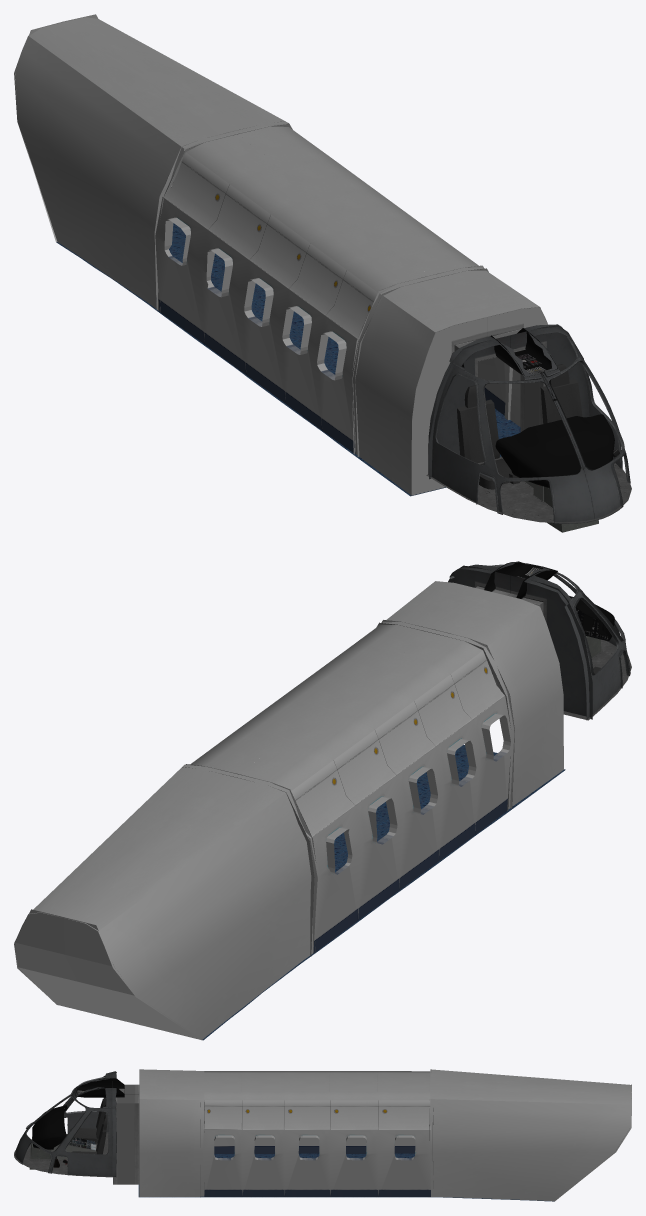
The model's file is AC313_nei.FBX.
3 renders of one model, top to bottom at view 1: azimuth 30°, elevation 25°; view 2: azimuth 150°, elevation 25°; view 3: azimuth 270°, elevation 25°, orthographic. The views are drawn at different scales.
Parts seen in each view (by area): view 1: AC313NEI_JIAN; view 2: AC313NEI_JIAN; view 3: AC313NEI_JIAN.
Part boxes in pixels (x1,y1,x2,y2): AC313NEI_JIAN: (14,14,631,532); AC313NEI_JIAN: (14,561,631,1040); AC313NEI_JIAN: (14,1069,631,1201).
Size of the model in its own units: 2.56 by 2.35 by 13.39.
